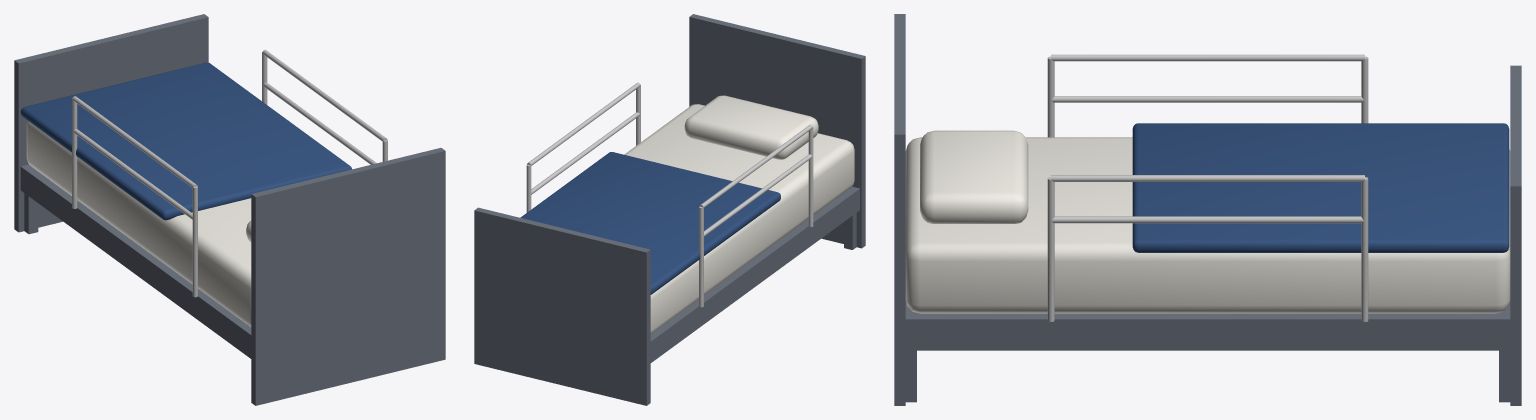
Rendered from fixture.hospital_bed.glb.
The picture shows the model from 3 angles, left to right: view 1: azimuth 30°, elevation 25°; view 2: azimuth 150°, elevation 25°; view 3: azimuth 270°, elevation 25°; orthographic projection. The views are drawn at different scales.
Parts seen in each view (by area): view 1: frame__steel_painted, soft__fabric_blue, soft__fabric_white, frame__steel_stainless; view 2: frame__steel_painted, soft__fabric_white, soft__fabric_blue, frame__steel_stainless; view 3: soft__fabric_white, soft__fabric_blue, frame__steel_painted, frame__steel_stainless.
Part boxes in pixels (left/top/right/bottom): frame__steel_painted: left=14, top=14, right=445, bottom=405; soft__fabric_blue: left=20, top=62, right=351, bottom=220; soft__fabric_white: left=26, top=120, right=251, bottom=326; frame__steel_stainless: left=72, top=50, right=387, bottom=297; frame__steel_painted: left=474, top=14, right=865, bottom=405; soft__fabric_white: left=624, top=95, right=854, bottom=334; soft__fabric_blue: left=520, top=152, right=780, bottom=294; frame__steel_stainless: left=526, top=82, right=813, bottom=307; soft__fabric_white: left=905, top=130, right=1510, bottom=313; soft__fabric_blue: left=1132, top=123, right=1509, bottom=252; frame__steel_painted: left=894, top=14, right=1521, bottom=405; frame__steel_stainless: left=1047, top=54, right=1368, bottom=321.
Bounding box in the file's own units: 1.02 × 1.05 × 2.2.
